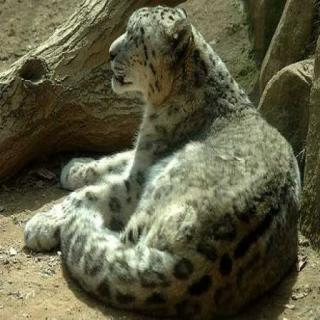Leopard: (48, 3, 310, 288)
